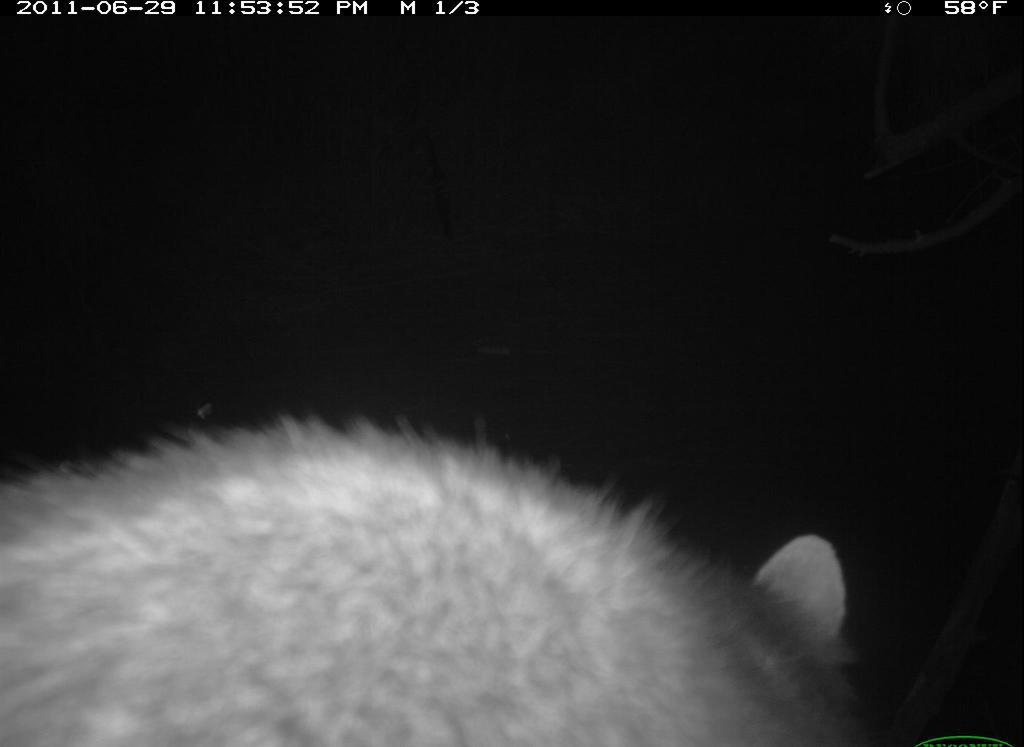raccoon: (6, 401, 914, 738)
